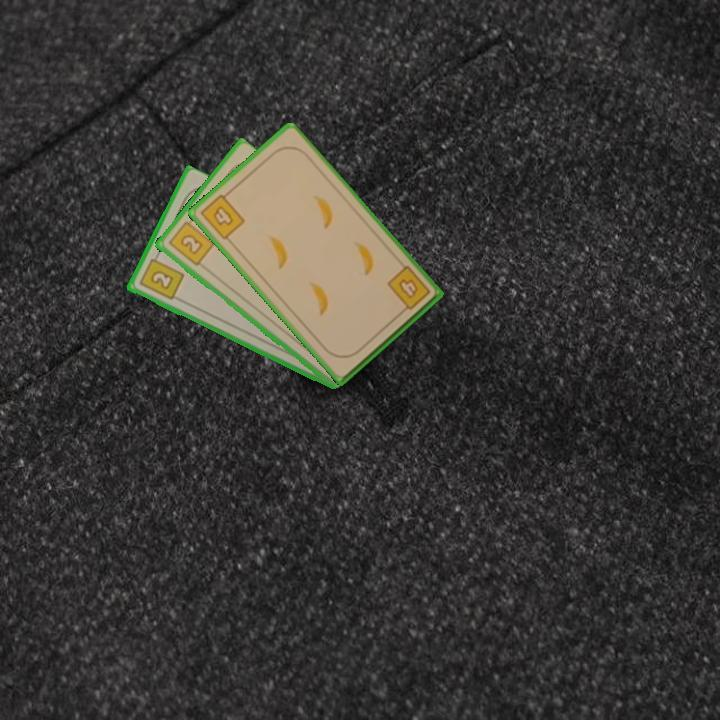2b: (165, 214, 216, 269), (136, 250, 186, 303)
4b: (196, 188, 248, 243), (383, 262, 433, 317)
